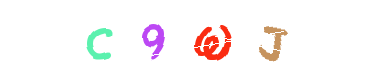9: (114, 0, 194, 80)
C: (58, 0, 138, 80)
J: (194, 0, 274, 80)
W: (155, 0, 235, 80)
